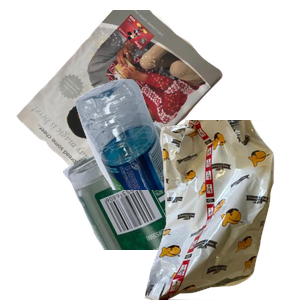glass: (60, 120, 300, 300)
paper: (14, 10, 229, 190)
plastic: (73, 76, 300, 256)
trash: (127, 120, 300, 300)
